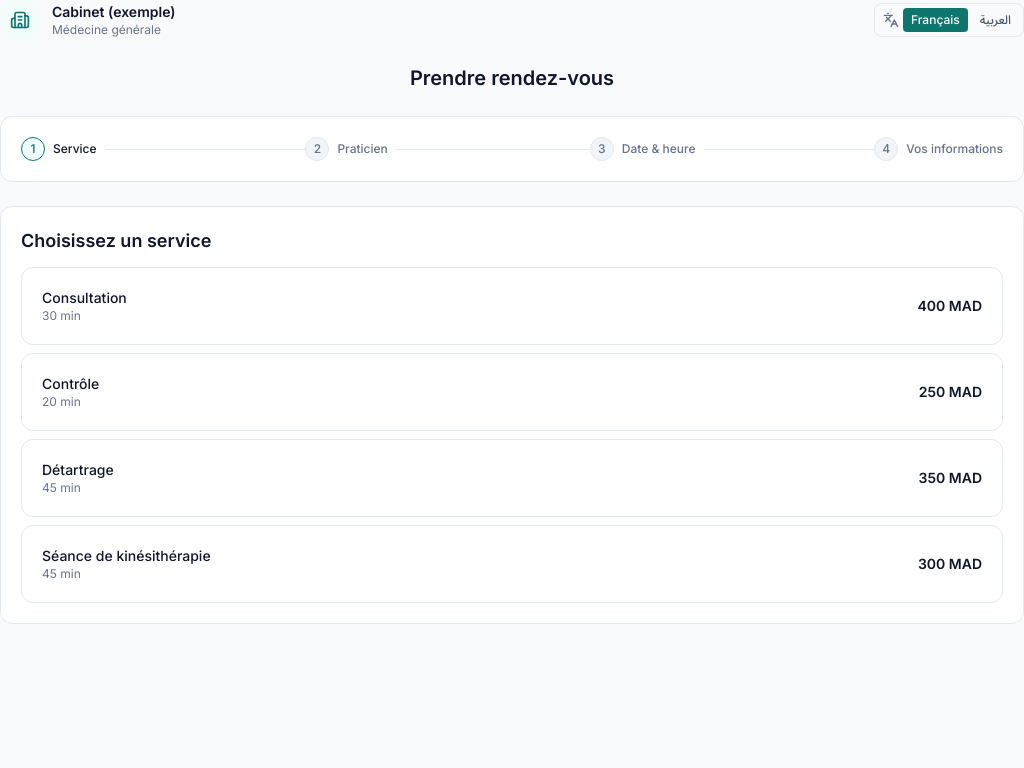
PublicBookingPage — calendar & slots (task §33-40) › selecting an available date reveals its real bookable slots
What coordinates should you click on to do the following:
click the button "Consultation 30 min 400 MAD"
I would click on:
 (512, 306)
Its box is [21,267,1003,345].
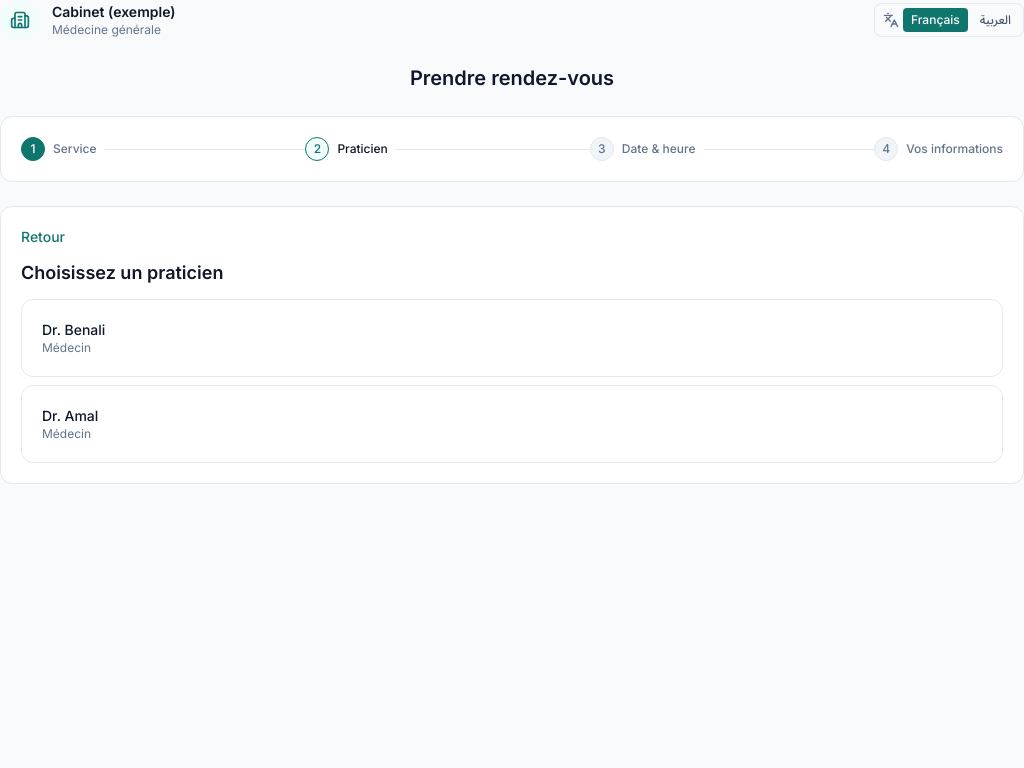
What coordinates should you click on to do the following:
click the button "Dr. Benali Médecin"
I would click on:
 (512, 338)
Its box is [21,299,1003,377].
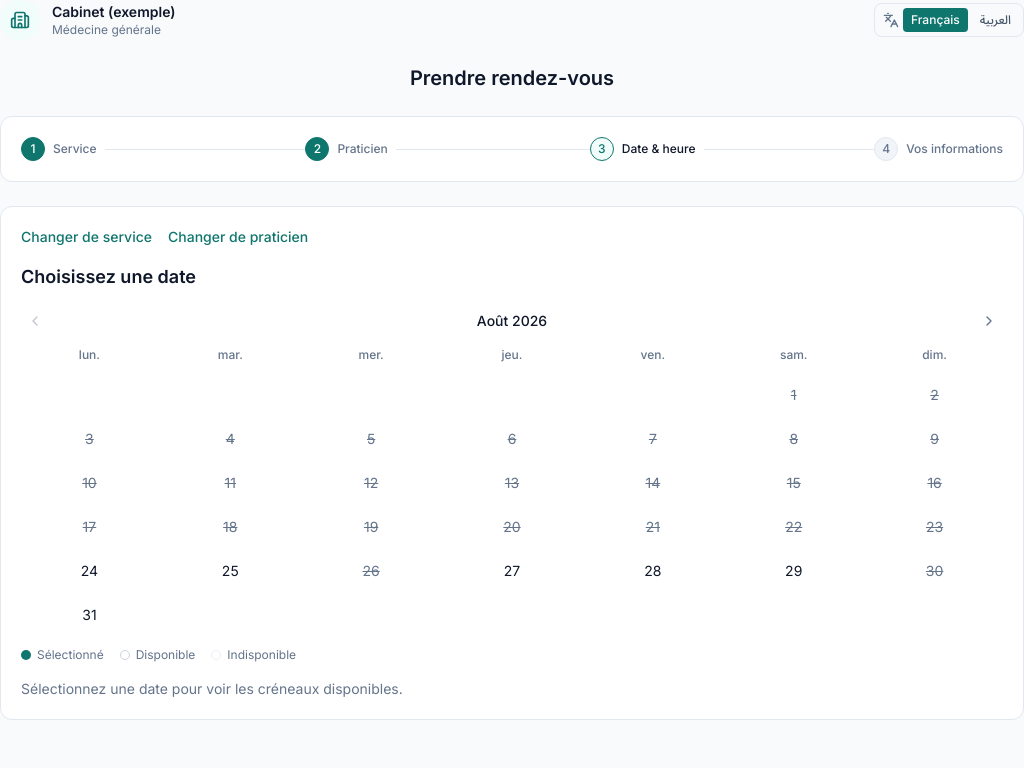
What coordinates should you click on to do the following:
click the button "25"
I would click on:
 (230, 571)
Its box is [162,551,299,591].
(page scrolled)
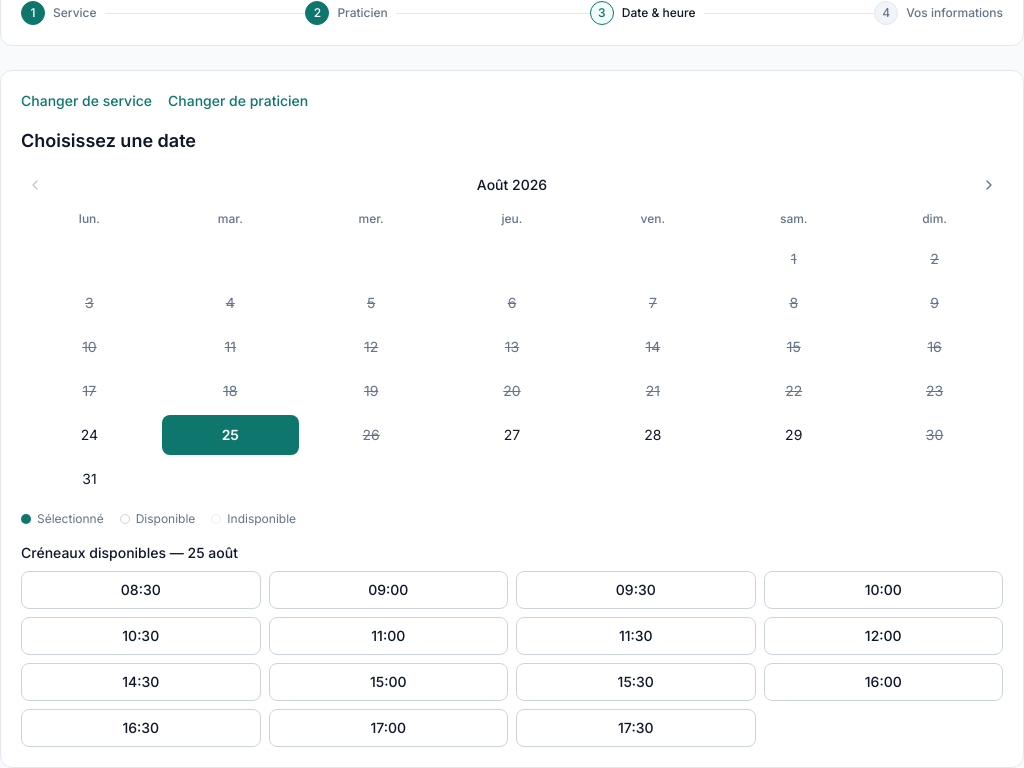
Expected: the button "08:30" is shown, [21,571,260,609]
Expected: the button "14:30" is shown, [21,663,260,701]
